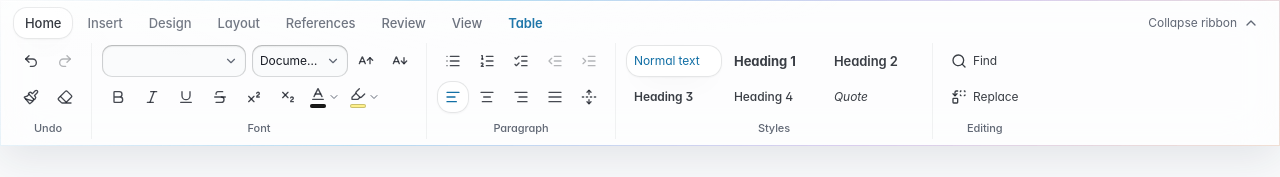
Test: DocumentToolbar ribbon › shows the Table tab only while the cursor is in a table and falls back to Home when it leaves
This screenshot has width=1280, height=177.
Step 1. Click the tab "Table" → (525, 23), box [496,7,555,39]
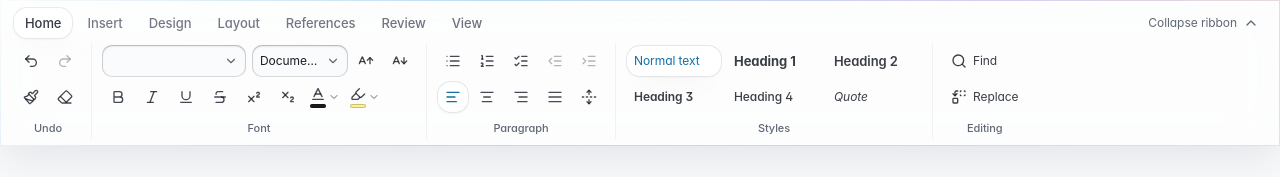
Expected: the tab "Table" is gone
